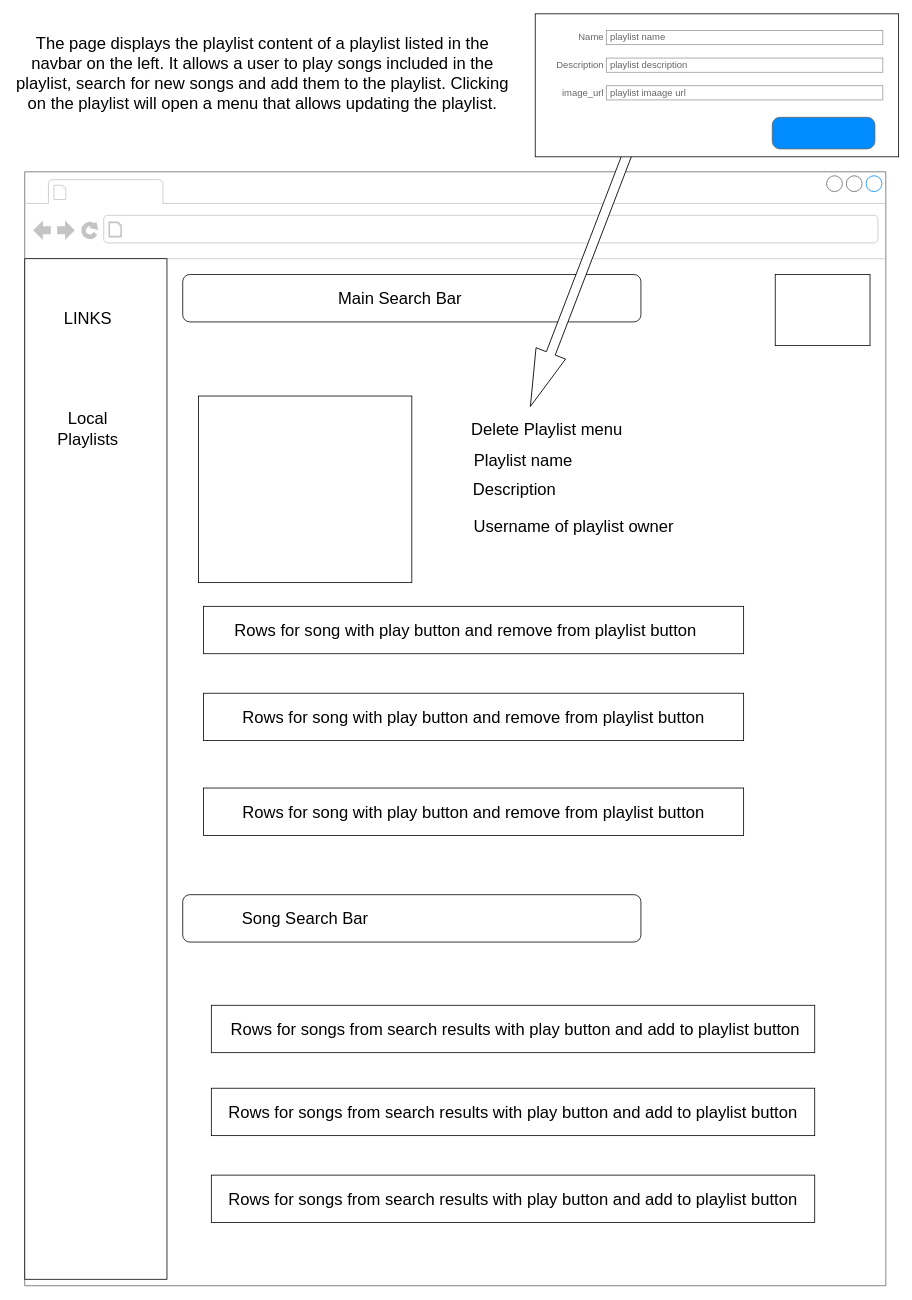
Image size: 912x1300. Some labels were removed from this diagram. The box of each missing label's shape, as (x1, y1, x2, y2) in pixels:
https://localhost:4000/playlists/:id: (127, 218, 325, 240)
Logged in user menu: (774, 274, 870, 346)
Playlist Picture: (198, 395, 412, 583)
Spotify Clone: (71, 181, 159, 202)
update playlist: (771, 117, 875, 149)
